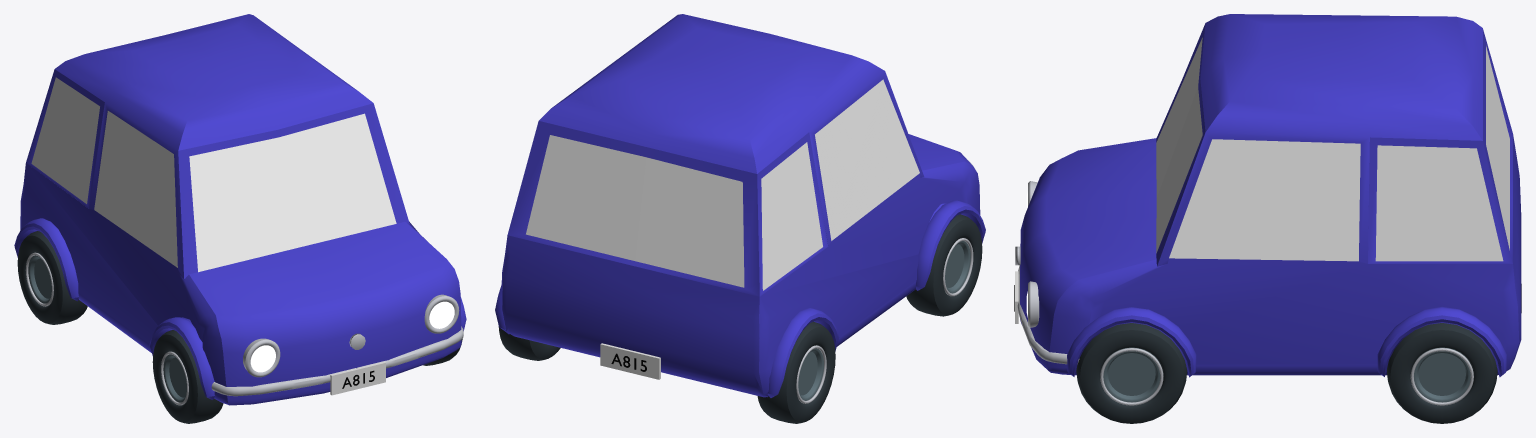
The model's file is car.glb.
3 renders of one model, left to right at view 1: azimuth 30°, elevation 25°; view 2: azimuth 150°, elevation 25°; view 3: azimuth 270°, elevation 25°, orthographic. The views are drawn at different scales.
Visible parts, largest first — view 1: car, window, window.001, window.004, plate; view 2: car, window.003, window.001, window.004, plate.001; view 3: car, window.001, window.004, window, window.003.
Part boxes in pixels (bbox=[...]): car: bbox=[14, 14, 466, 423]; window: bbox=[189, 113, 396, 272]; window.001: bbox=[94, 111, 177, 267]; window.004: bbox=[31, 77, 99, 203]; plate: bbox=[330, 361, 385, 395]; car: bbox=[495, 14, 985, 423]; window.003: bbox=[526, 135, 744, 287]; window.001: bbox=[815, 79, 919, 240]; window.004: bbox=[761, 142, 822, 290]; plate.001: bbox=[600, 343, 660, 379]; car: bbox=[1017, 14, 1521, 423]; window.001: bbox=[1169, 139, 1360, 261]; window.004: bbox=[1375, 145, 1503, 261]; window: bbox=[1156, 37, 1202, 253]; window.003: bbox=[1486, 46, 1509, 250].
Bounding box in the file's own units: 7.7 × 7.17 × 10.94.
